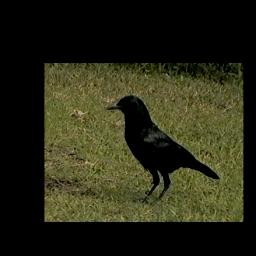Crow: (104, 95, 220, 205)
